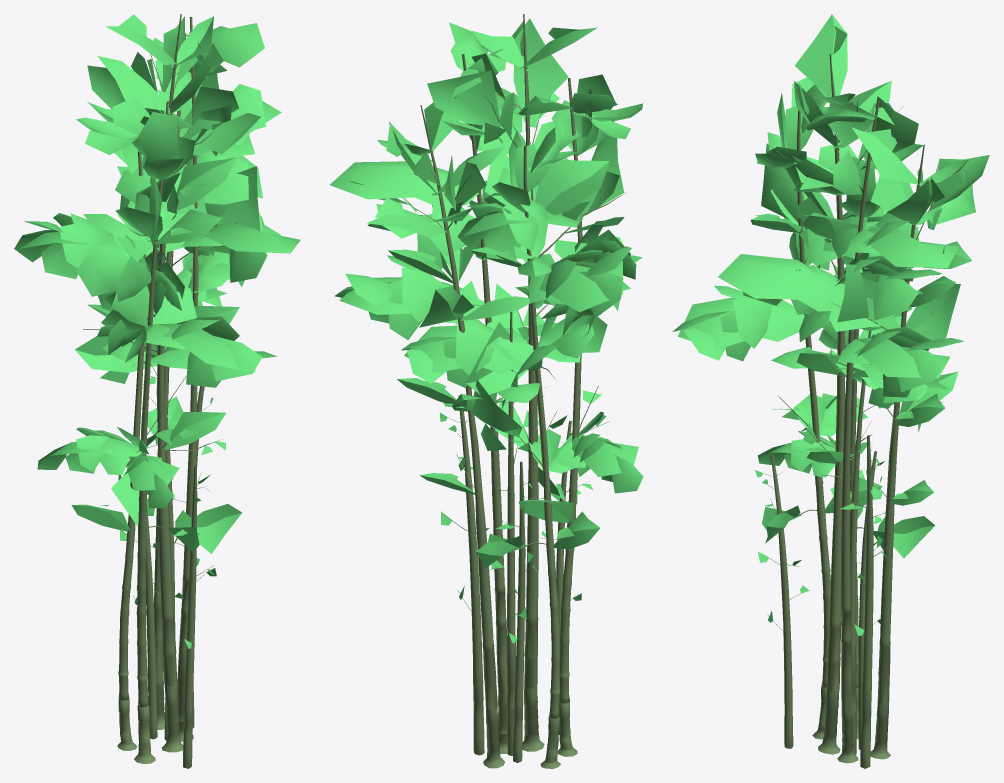
The model's file is Bamboo_Cluster2_LOD0.fbx.
The picture shows the model from 3 angles, left to right: view 1: azimuth 30°, elevation 25°; view 2: azimuth 150°, elevation 25°; view 3: azimuth 270°, elevation 25°; orthographic projection. The views are drawn at different scales.
Parts seen in each view (by area): view 1: Bamboo_Cluster2_LOD0; view 2: Bamboo_Cluster2_LOD0; view 3: Bamboo_Cluster2_LOD0.
Part boxes in pixels (<box>): Bamboo_Cluster2_LOD0: <box>14,14,300,768</box>; Bamboo_Cluster2_LOD0: <box>330,14,643,768</box>; Bamboo_Cluster2_LOD0: <box>672,14,989,768</box>.
Size of the model in its own units: 922 by 2434 by 994.
